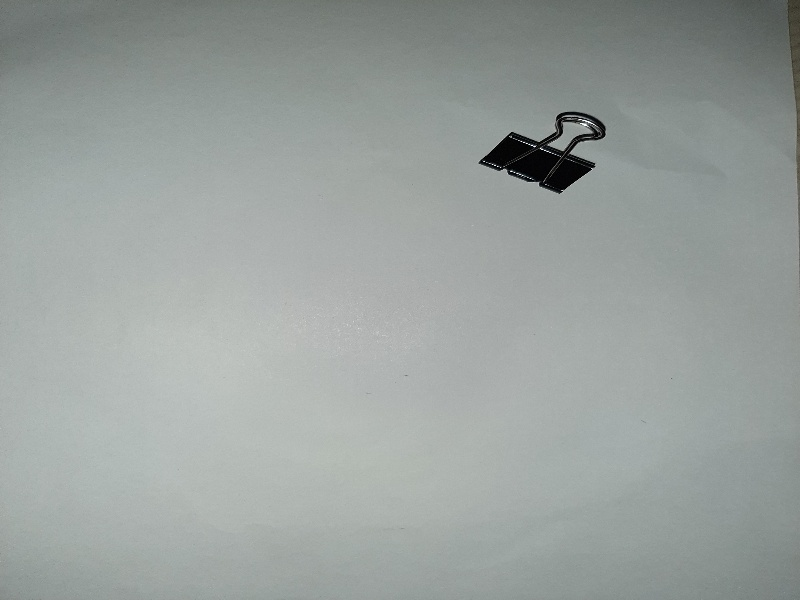Big Paperclip: (473, 94, 622, 199)
